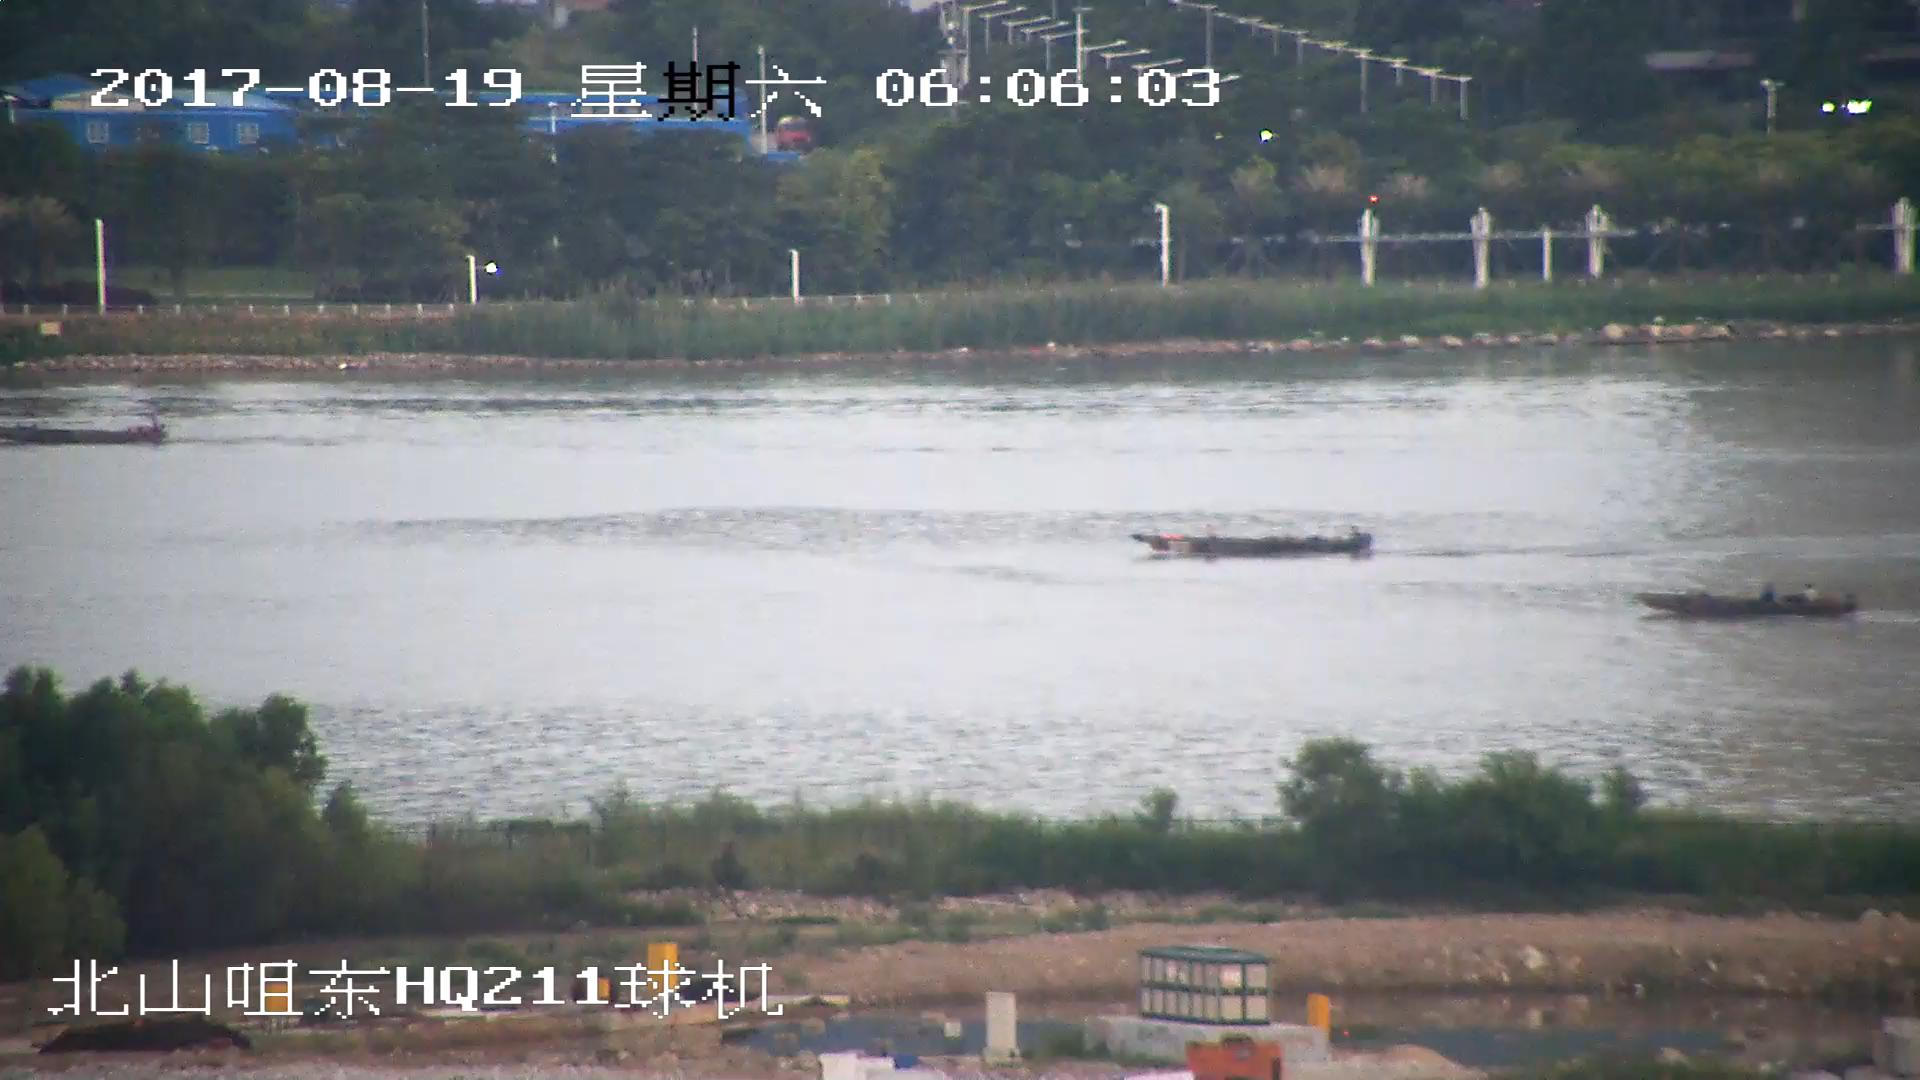fishing boat: (1638, 586, 1863, 623), (1134, 527, 1382, 556), (1, 415, 164, 448)
